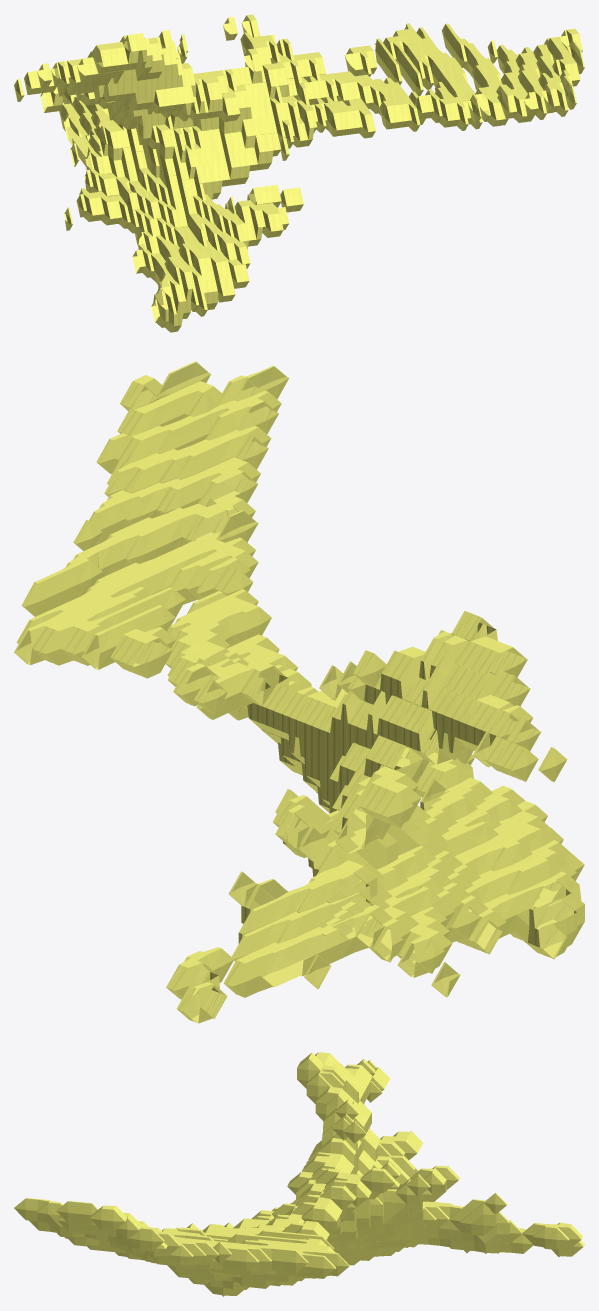
File: SVV_BWM-DL08.gltf
The picture shows the model from 3 angles, top to bottom: view 1: azimuth 30°, elevation 25°; view 2: azimuth 150°, elevation 25°; view 3: azimuth 270°, elevation 25°; orthographic projection. The views are drawn at different scales.
Parts seen in each view (by area): view 1: BWM-DL08; view 2: BWM-DL08; view 3: BWM-DL08.
Part boxes in pixels (left/top/right/bottom): BWM-DL08: left=14, top=14, right=584, bottom=332; BWM-DL08: left=14, top=361, right=584, bottom=1023; BWM-DL08: left=14, top=1052, right=584, bottom=1296.
Size of the model in its own units: 25186 by 14504 by 30927.
